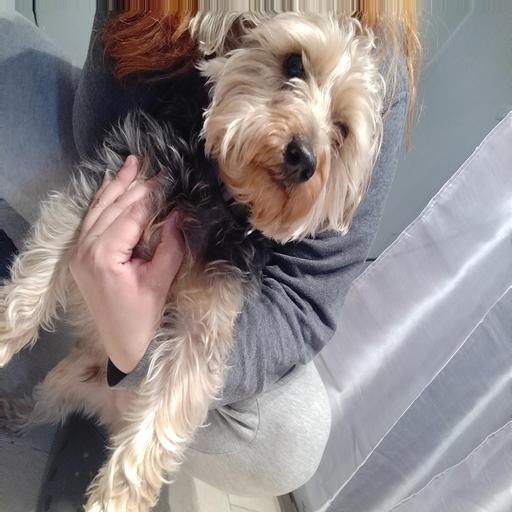dog: (197, 18, 418, 239)
